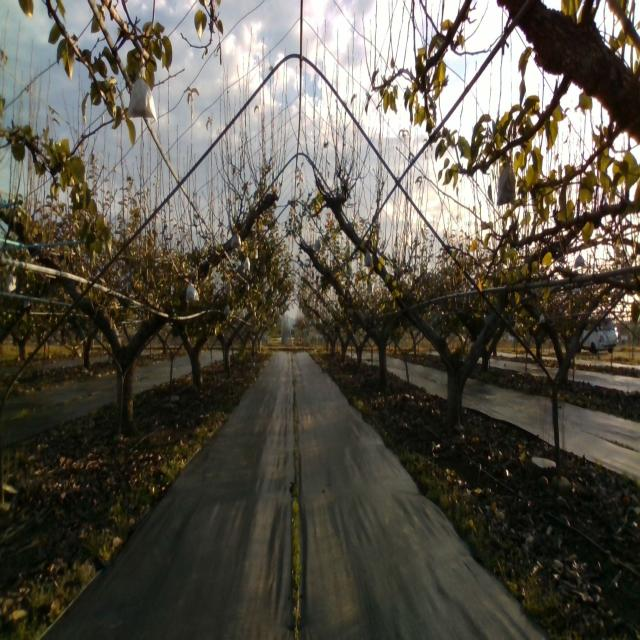pearbags: (126, 68, 156, 120), (496, 156, 516, 206), (186, 279, 200, 304), (363, 249, 374, 269), (230, 232, 241, 251)
